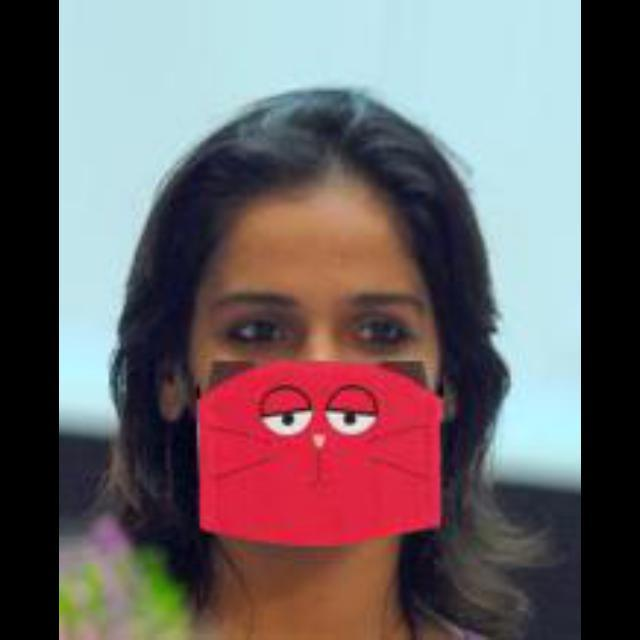suspicion: (88, 64, 524, 564)
